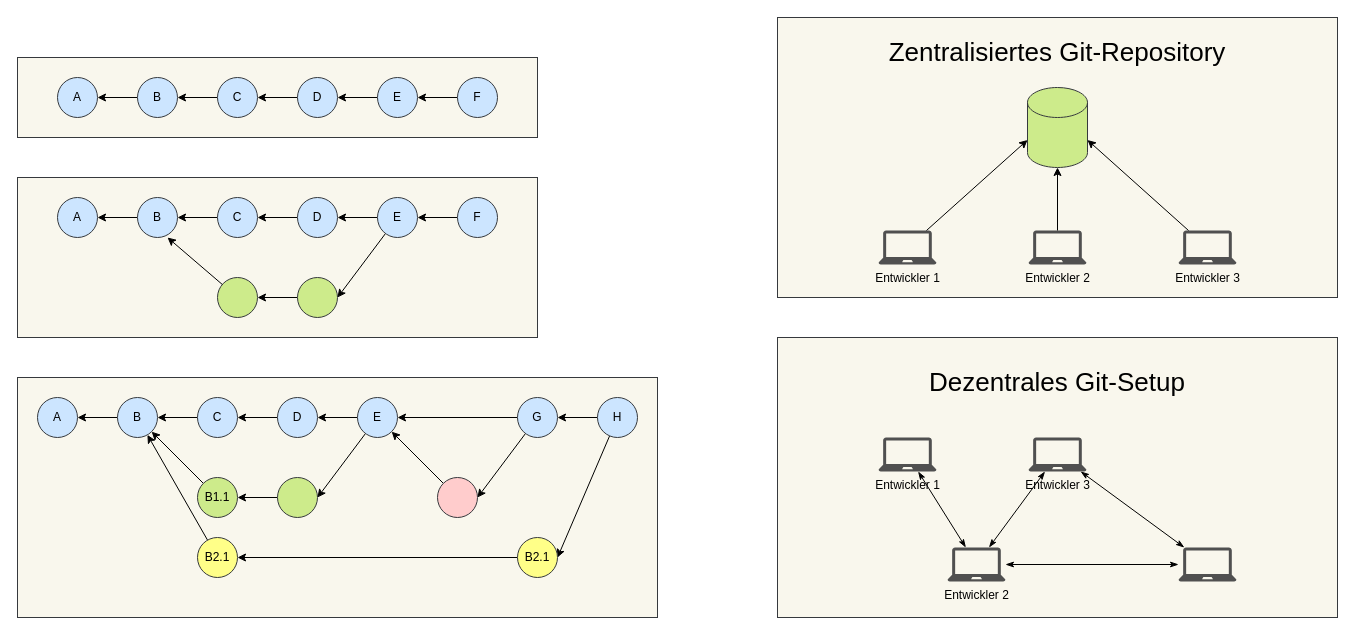
Image size: 1355x635. Some labels were removed from this diagram. Here are the shapes that lost their labels. From the top down, the centre of each, then its label:
At point (1057, 127): "GitHub".
At point (237, 297): "B1".
At point (317, 297): "B2".
At point (297, 497): "B1.2".
At point (457, 497): "E1".
At point (1207, 564): "Entwickler 4".
